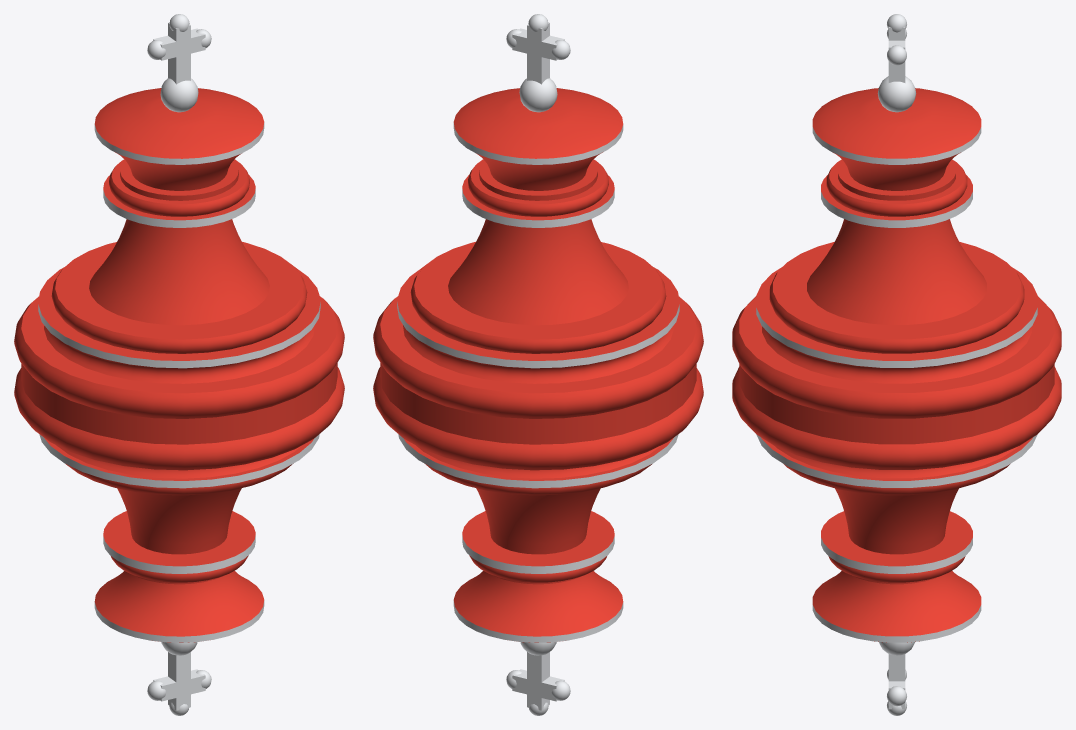
Rendered from king-classic.glb.
3 renders of one model, left to right at view 1: azimuth 30°, elevation 25°; view 2: azimuth 150°, elevation 25°; view 3: azimuth 270°, elevation 25°, orthographic.
Parts seen in each view (by area): view 1: king-classic; view 2: king-classic; view 3: king-classic.
Part boxes in pixels (x1=…): king-classic: x1=14, y1=14, x2=344, y2=715; king-classic: x1=373, y1=14, x2=703, y2=715; king-classic: x1=732, y1=14, x2=1061, y2=715.
Size of the model in its own units: 0.5007 by 1.17 by 0.5007.
